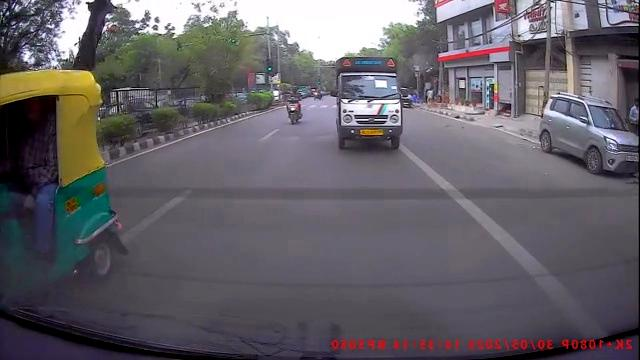motorcycle_with_helmet: (284, 85, 304, 126)
